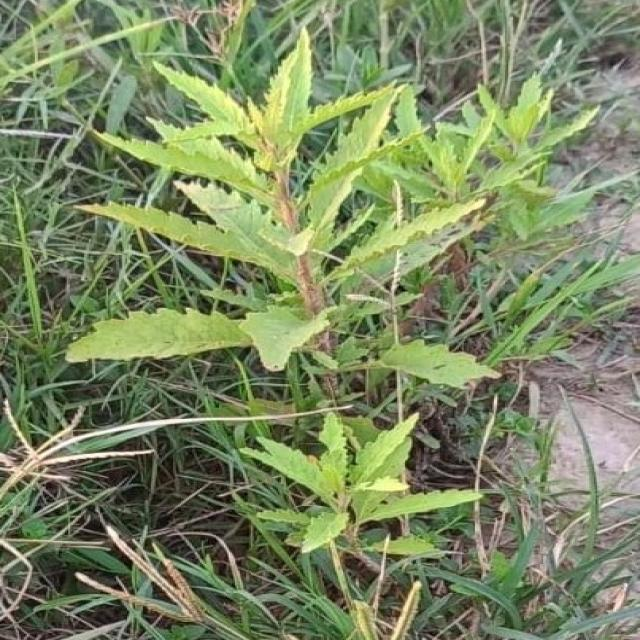weed: (67, 33, 592, 371), (243, 418, 481, 553), (335, 341, 495, 388), (383, 541, 435, 556)
